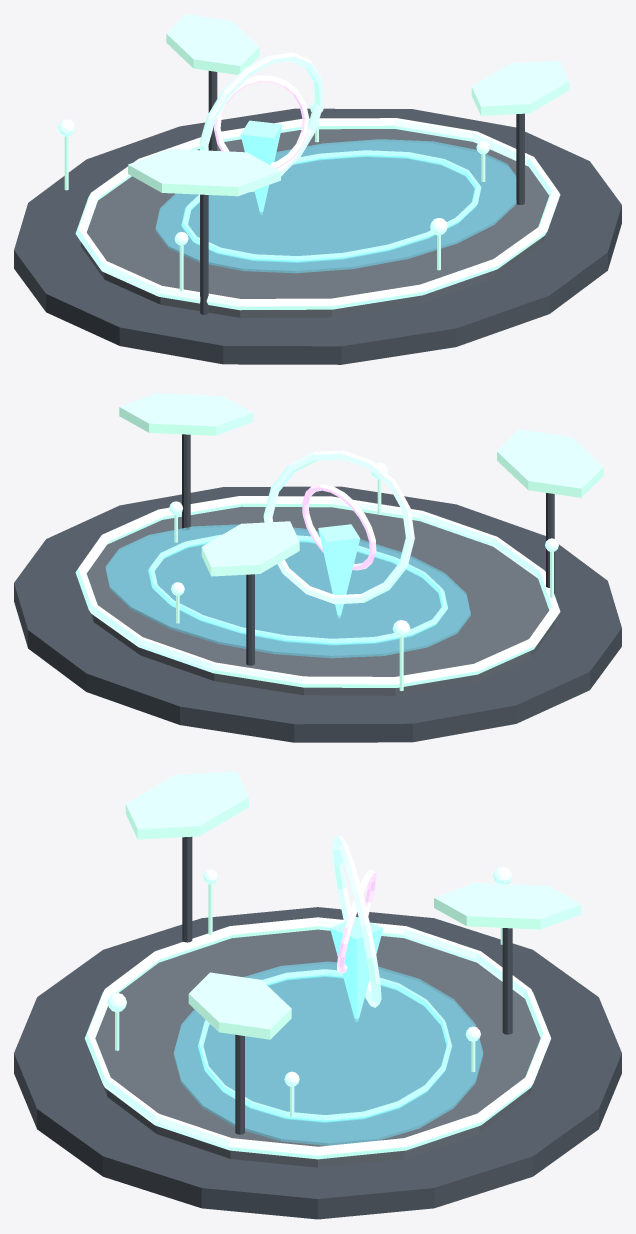
The model's file is reflection-garden-lod2.2388343981aa.glb.
3 renders of one model, top to bottom at view 1: azimuth 30°, elevation 25°; view 2: azimuth 150°, elevation 25°; view 3: azimuth 270°, elevation 25°, orthographic. The views are drawn at different scales.
Visible parts, largest first — view 1: garden_terrace_outer, reflective_pool, garden_terrace_inner, quiet_path_outer, canopy_crown_1, canopy_crown_0, canopy_crown_2, quiet_path_inner, reflection_monument_outer, reflection_crystal, reflection_monument_inner, canopy_stem_1 (+2 smaller); view 2: garden_terrace_outer, garden_terrace_inner, reflective_pool, quiet_path_outer, canopy_crown_1, canopy_crown_0, canopy_crown_2, reflection_monument_outer, quiet_path_inner, reflection_crystal, reflection_monument_inner, canopy_stem_0 (+2 smaller); view 3: garden_terrace_outer, reflective_pool, garden_terrace_inner, quiet_path_outer, canopy_crown_1, canopy_crown_2, canopy_crown_0, quiet_path_inner, reflection_monument_outer, reflection_crystal, canopy_stem_2, canopy_stem_1 (+2 smaller).
Boxes of the visible parts, x1,y1,x2,y2 form: garden_terrace_outer: (14,108,621,364); reflective_pool: (155,139,516,273); garden_terrace_inner: (81,129,549,317); quiet_path_outer: (75,118,560,310); canopy_crown_1: (128,149,280,196); canopy_crown_0: (471,60,569,115); canopy_crown_2: (166,14,259,74); quiet_path_inner: (181,150,481,262); reflection_monument_outer: (199,52,323,191); reflection_crystal: (240,120,282,213); reflection_monument_inner: (214,75,308,168); canopy_stem_1: (200,194,208,314); garden_terrace_outer: (14,486,621,742); garden_terrace_inner: (86,506,554,695); reflective_pool: (105,524,470,658); quiet_path_outer: (75,496,560,687); canopy_crown_1: (497,429,603,497); canopy_crown_0: (119,393,252,435); canopy_crown_2: (201,521,299,576); reflection_monument_outer: (263,450,414,604); quiet_path_inner: (148,534,447,644); reflection_crystal: (318,524,360,617); reflection_monument_inner: (302,484,376,570); canopy_stem_0: (182,434,190,529); garden_terrace_outer: (14,907,621,1219); reflective_pool: (173,961,483,1145); garden_terrace_inner: (90,929,545,1167); quiet_path_outer: (84,917,551,1159); canopy_crown_1: (125,771,248,839); canopy_crown_2: (434,882,581,929); canopy_crown_0: (188,972,291,1039); quiet_path_inner: (198,969,451,1122); reflection_monument_outer: (332,835,381,1007); reflection_crystal: (330,917,383,1021); canopy_stem_2: (502,928,512,1034); canopy_stem_1: (182,836,192,942).
Size of the model in its own units: 9.8 by 3.29 by 8.62.
